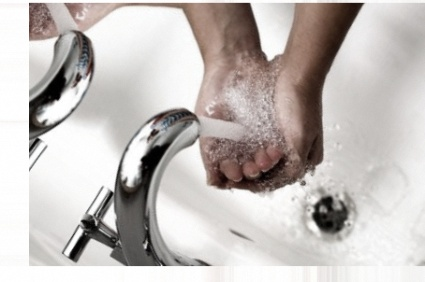washing hand: (61, 0, 424, 281)
